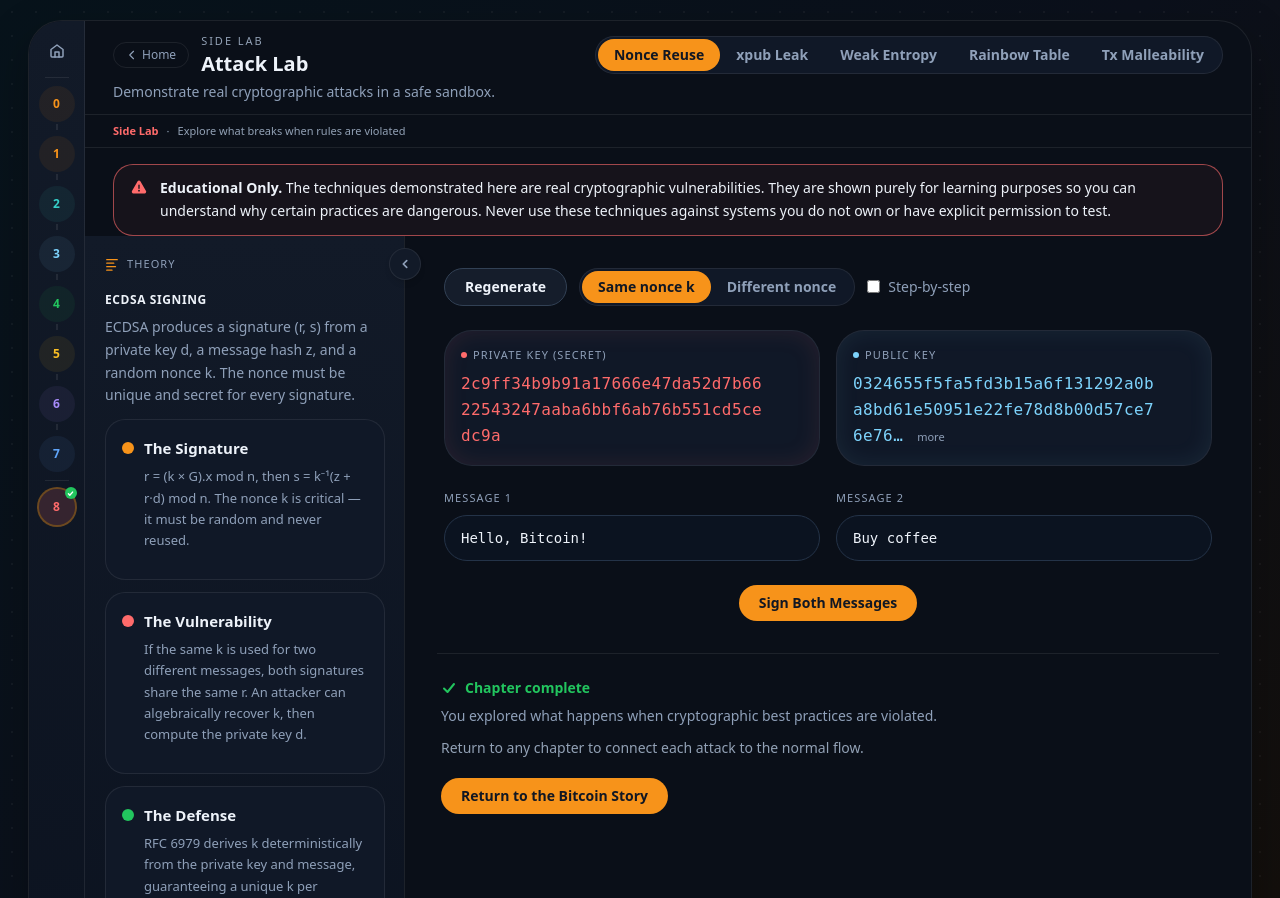
Scenario: AttackLab › regenerate clears signature state
The image size is (1280, 898).
Click the button "Sign Both Messages".
click(828, 602)  # box [739,584,917,620]
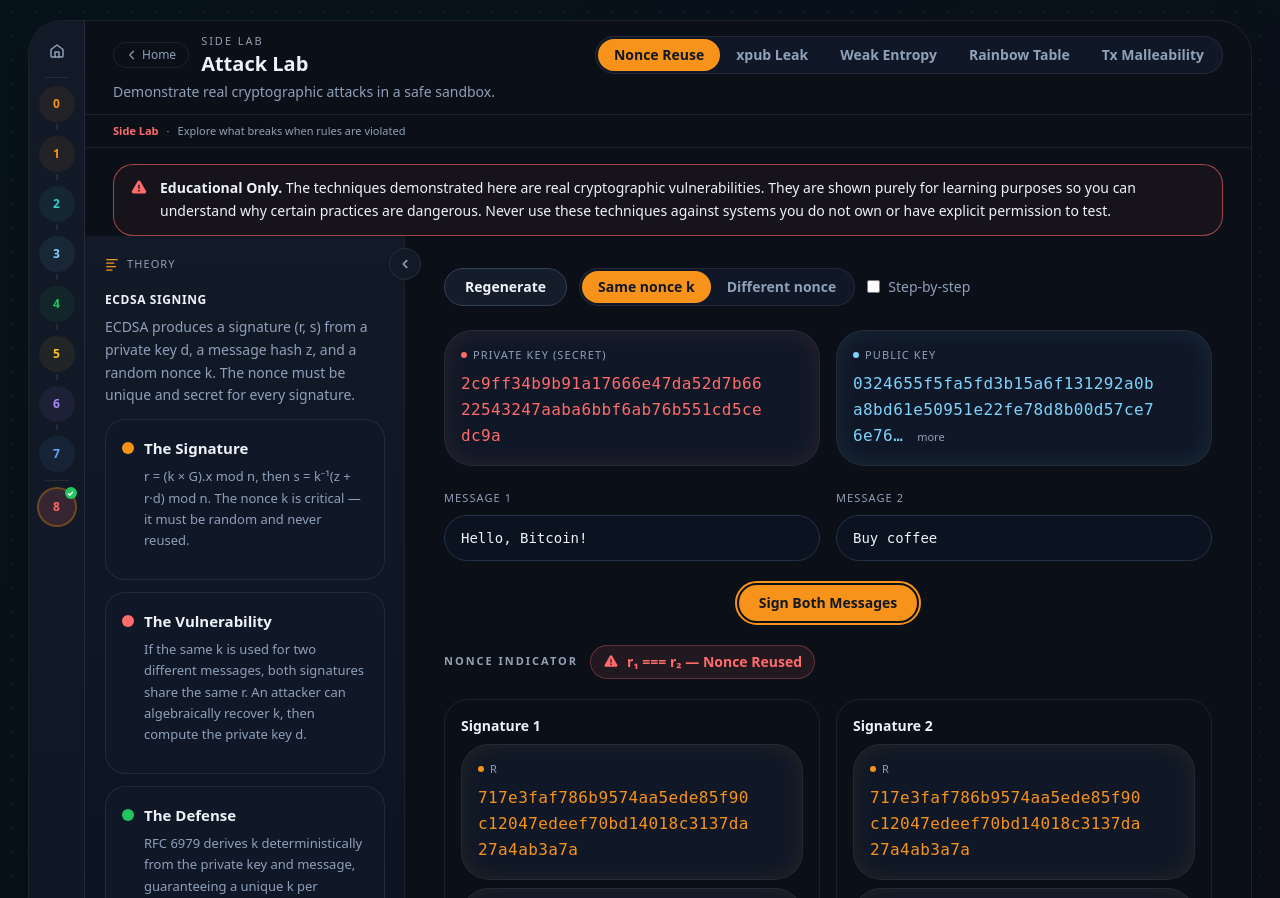
Now the text "Signature 1" is shown, box [461,716,541,734]
Click the button "Regenerate".
click(506, 286)  # box [444,268,567,306]
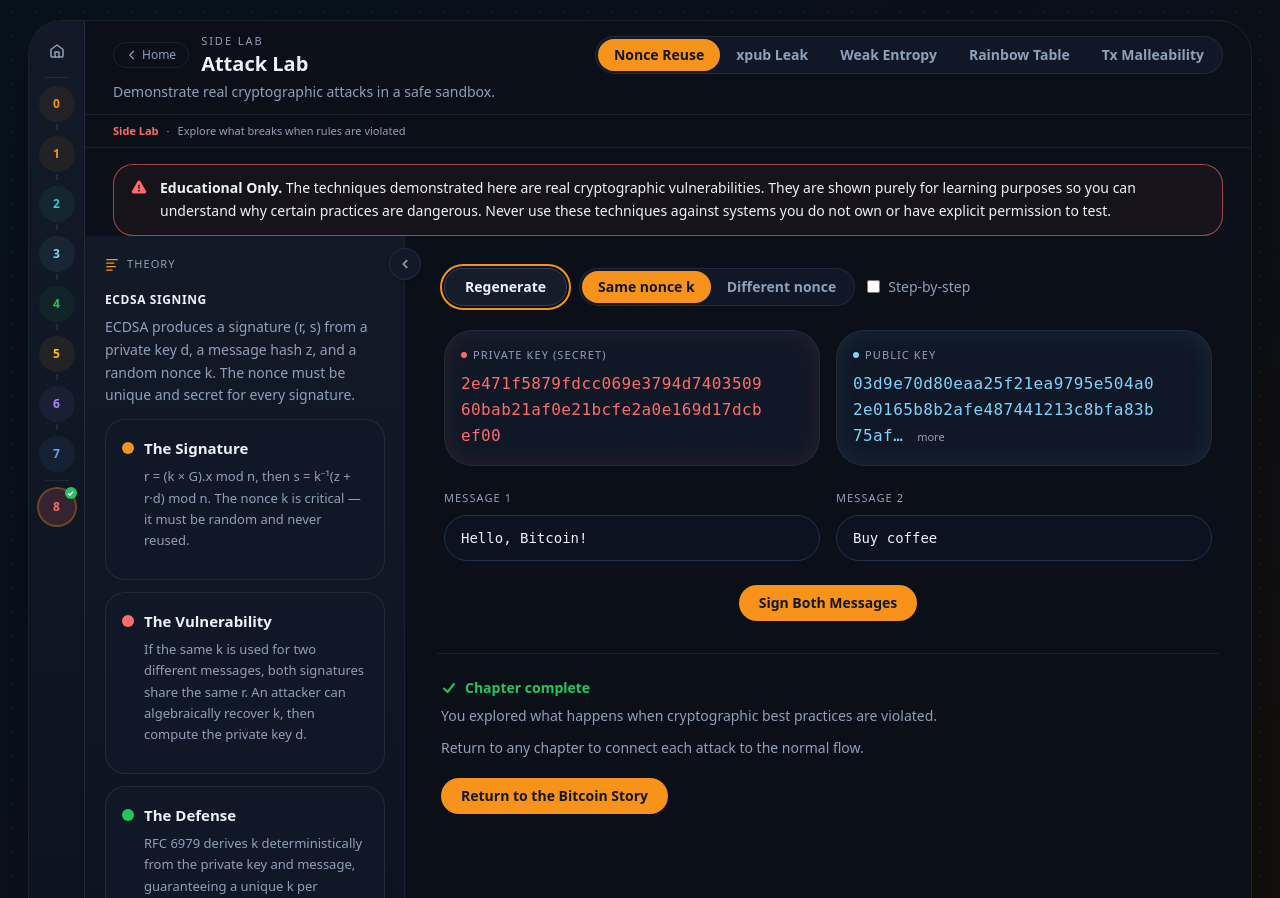
Now the text "Signature 1" is gone
